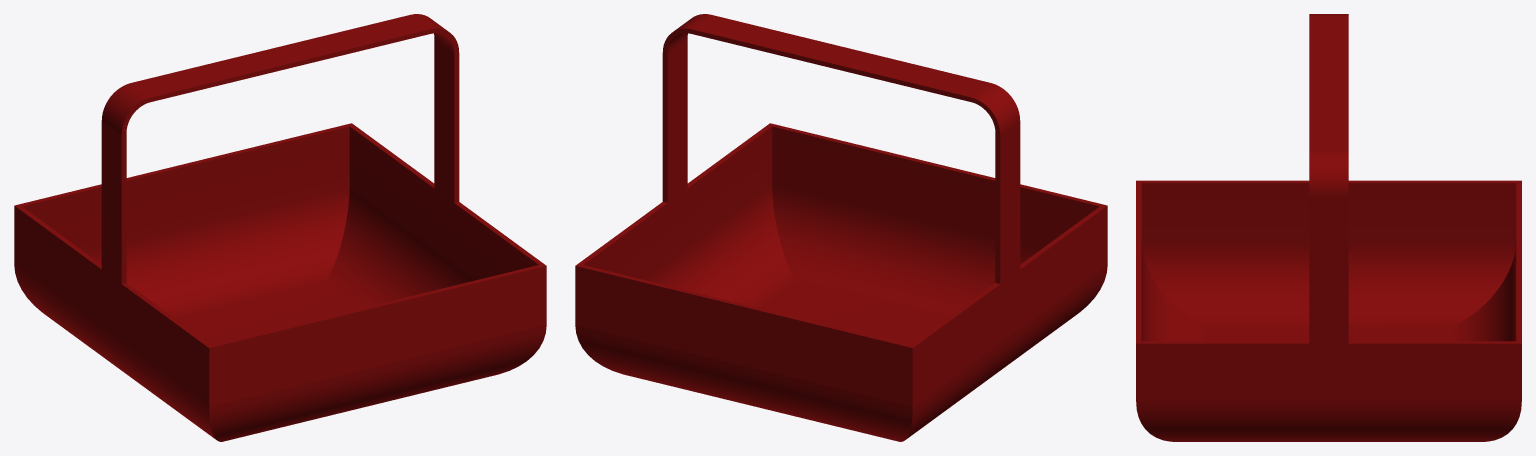
File: cesta2.obj
3 views of the same model, side by side, from view 1: azimuth 30°, elevation 25°; view 2: azimuth 150°, elevation 25°; view 3: azimuth 270°, elevation 25° (orthographic).
Parts seen in each view (by area): view 1: Layer0_001; view 2: Layer0_001; view 3: Layer0_001.
Boxes of the visible parts, x1,y1,x2,y2 form: Layer0_001: (14,14,546,441); Layer0_001: (575,14,1107,441); Layer0_001: (1136,14,1521,441).
Bounding box in the file's own units: 346 × 296 × 346.
